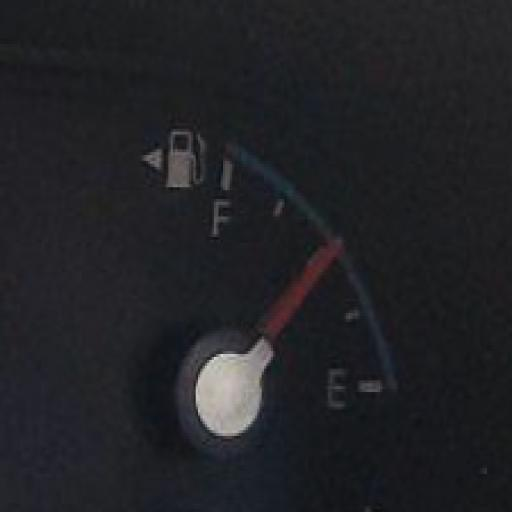empty: (326, 364, 351, 409)
fuel_icon: (156, 112, 207, 192)
full: (207, 195, 232, 238)
guage_area: (78, 77, 403, 470)
needle_center: (160, 311, 284, 446)
needle_tip: (303, 229, 346, 286)
